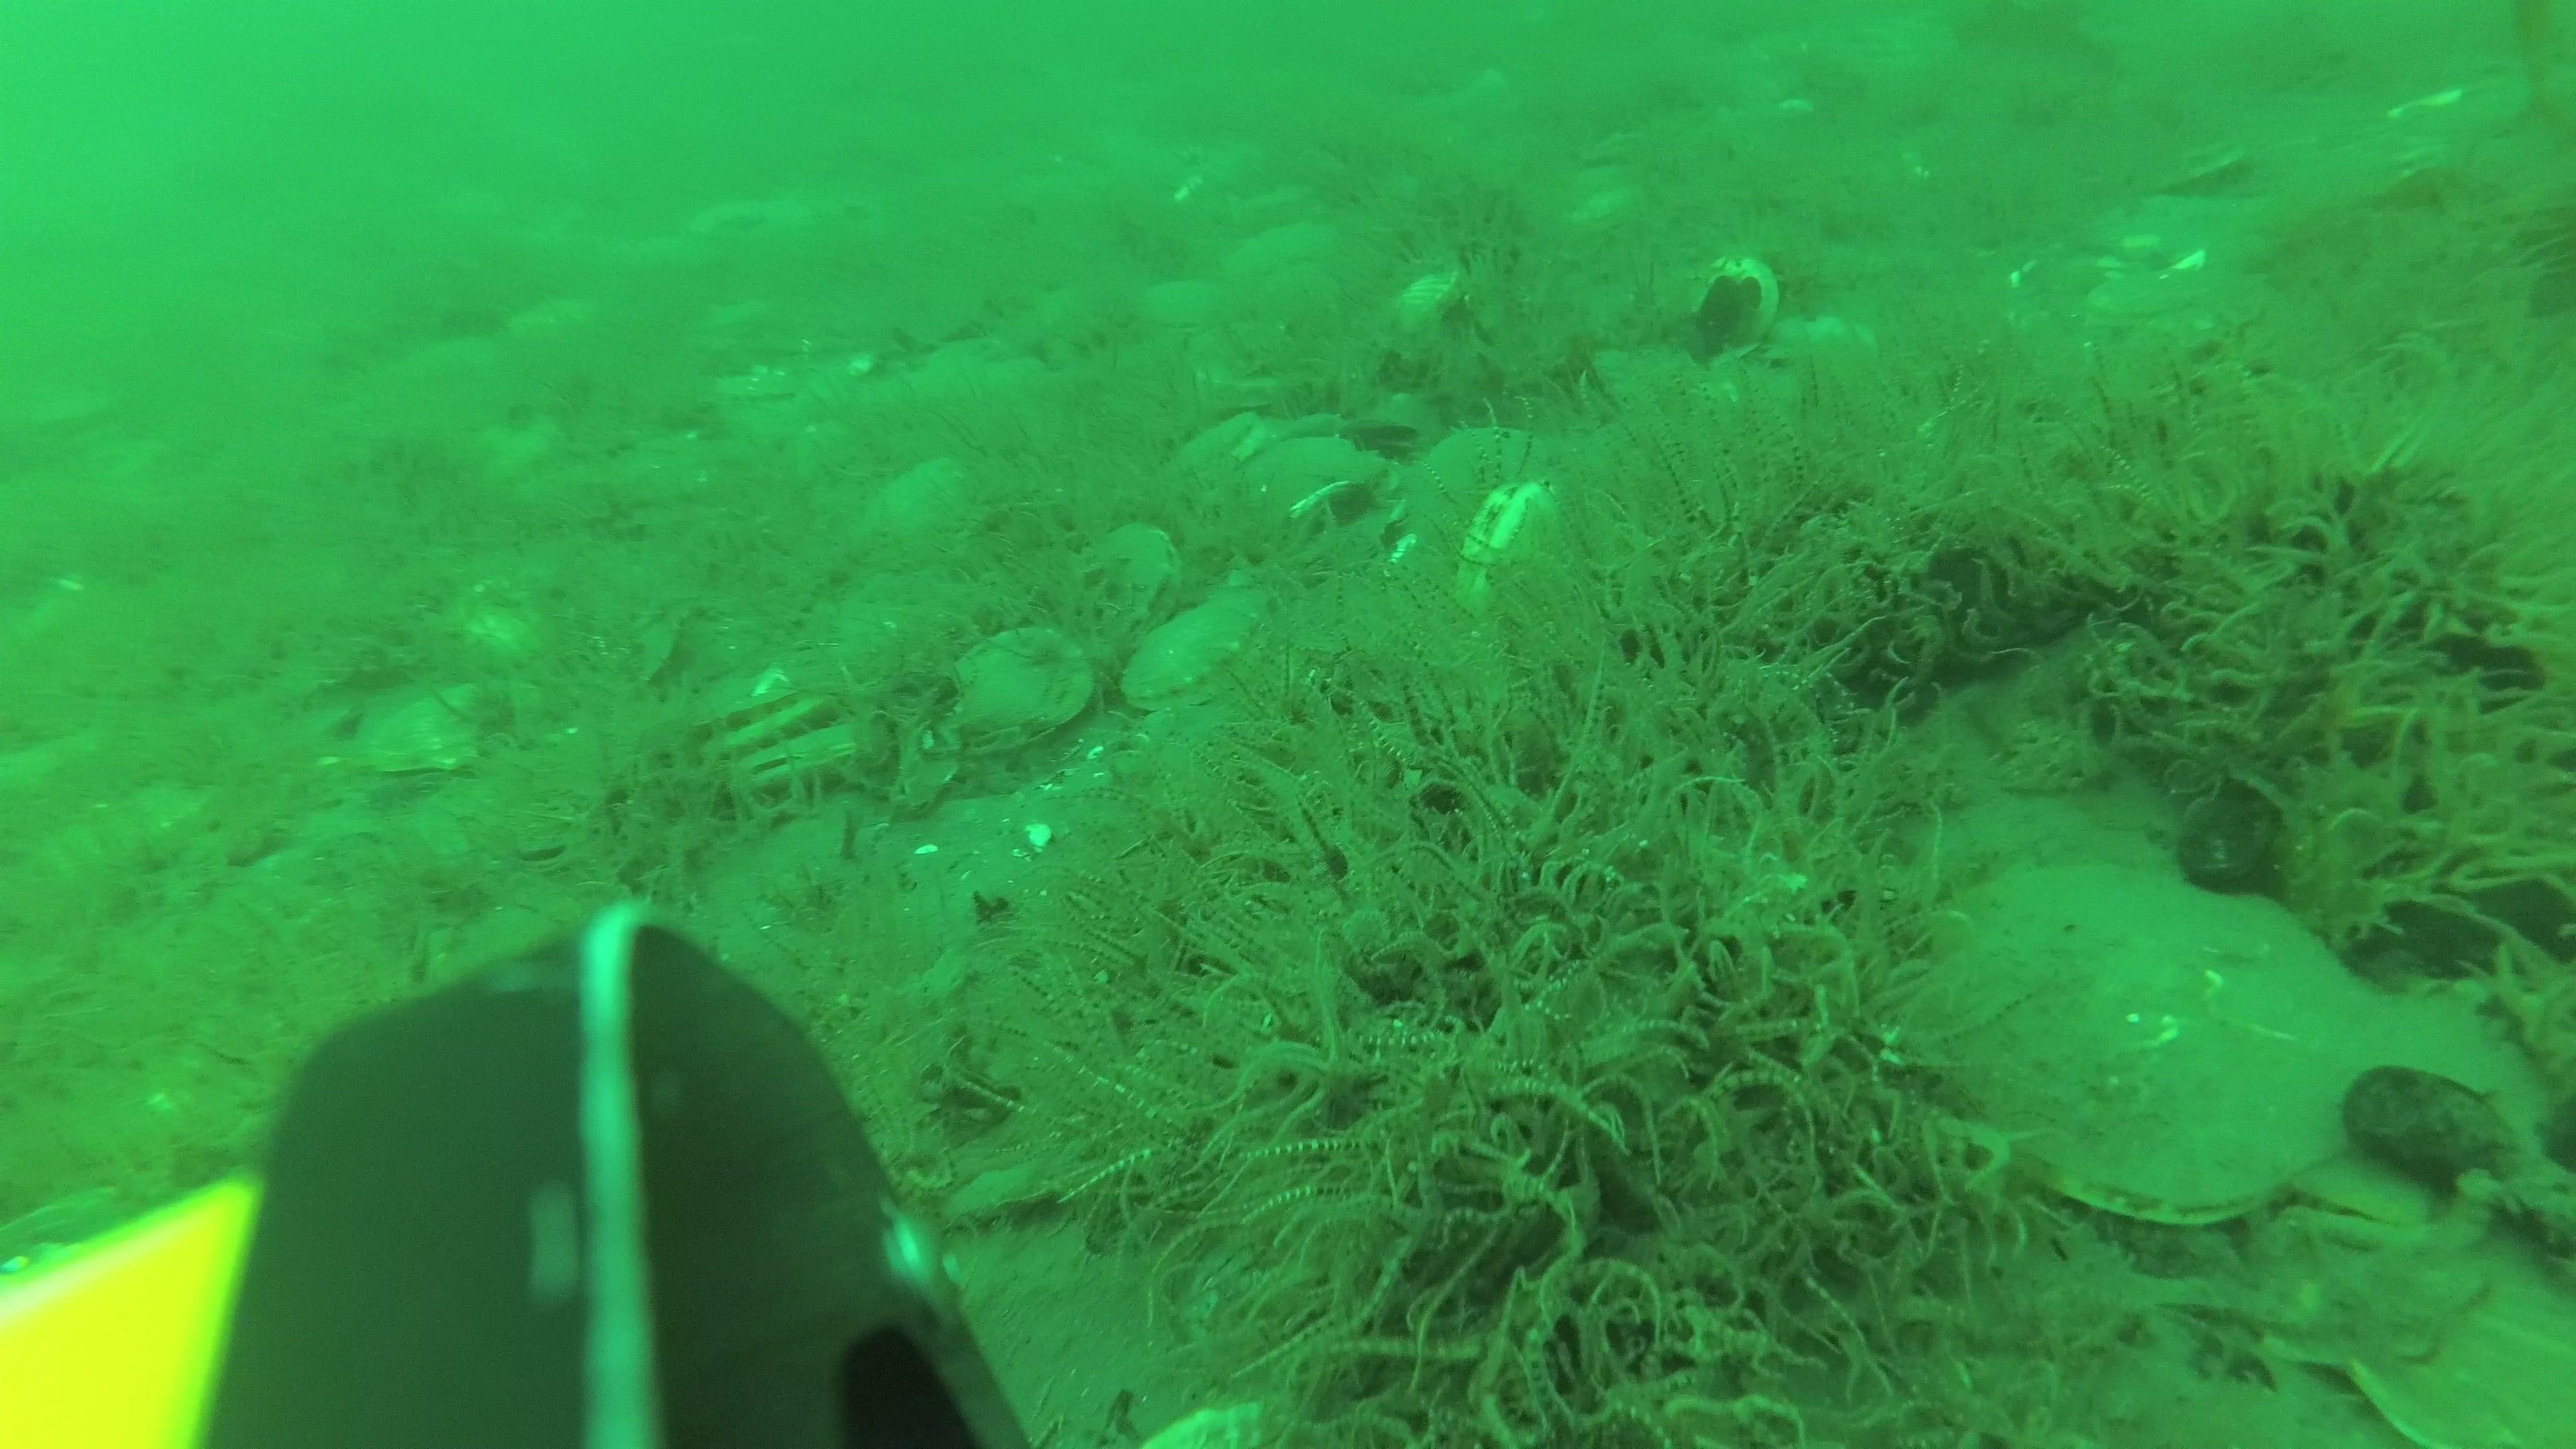scallop: (1927, 851, 2392, 1230), (2266, 977, 2539, 1226), (2210, 1159, 2512, 1368), (2330, 1224, 2576, 1449), (1396, 416, 1560, 554), (947, 616, 1092, 750), (1228, 435, 1387, 543), (1069, 517, 1194, 653), (1131, 600, 1276, 717), (858, 460, 1001, 577), (364, 685, 533, 782), (725, 722, 869, 816), (1164, 403, 1281, 494), (2086, 255, 2220, 331), (697, 690, 833, 761), (1391, 264, 1463, 350), (1143, 276, 1231, 341)
